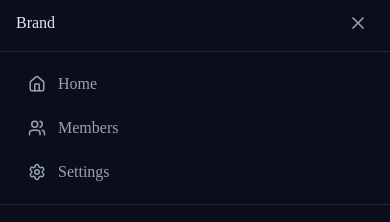
Navbar › closes the mobile menu when a link is selected
What coordinates should you click on to do the following:
click the link "Home"
I would click on:
 (63, 84)
Its box is [28,75,97,93].
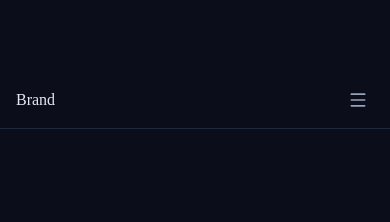
Expected: the button named "Open menu" is shown, [342,84,374,116]
